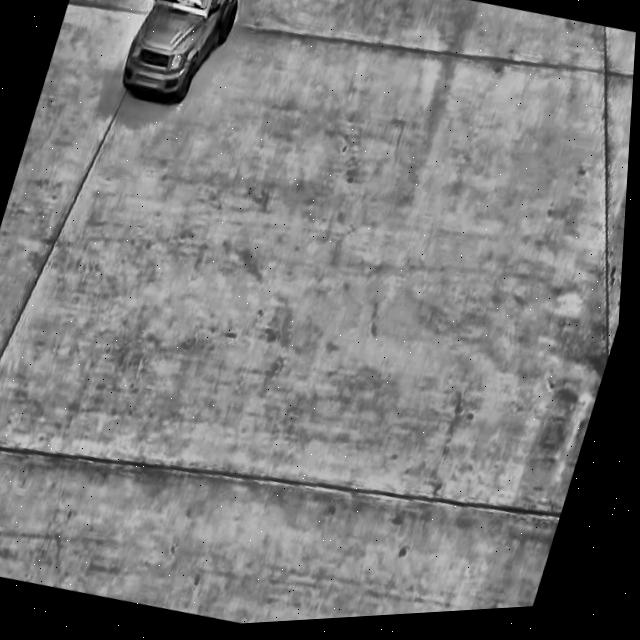light_vehicle: (116, 0, 256, 108)
